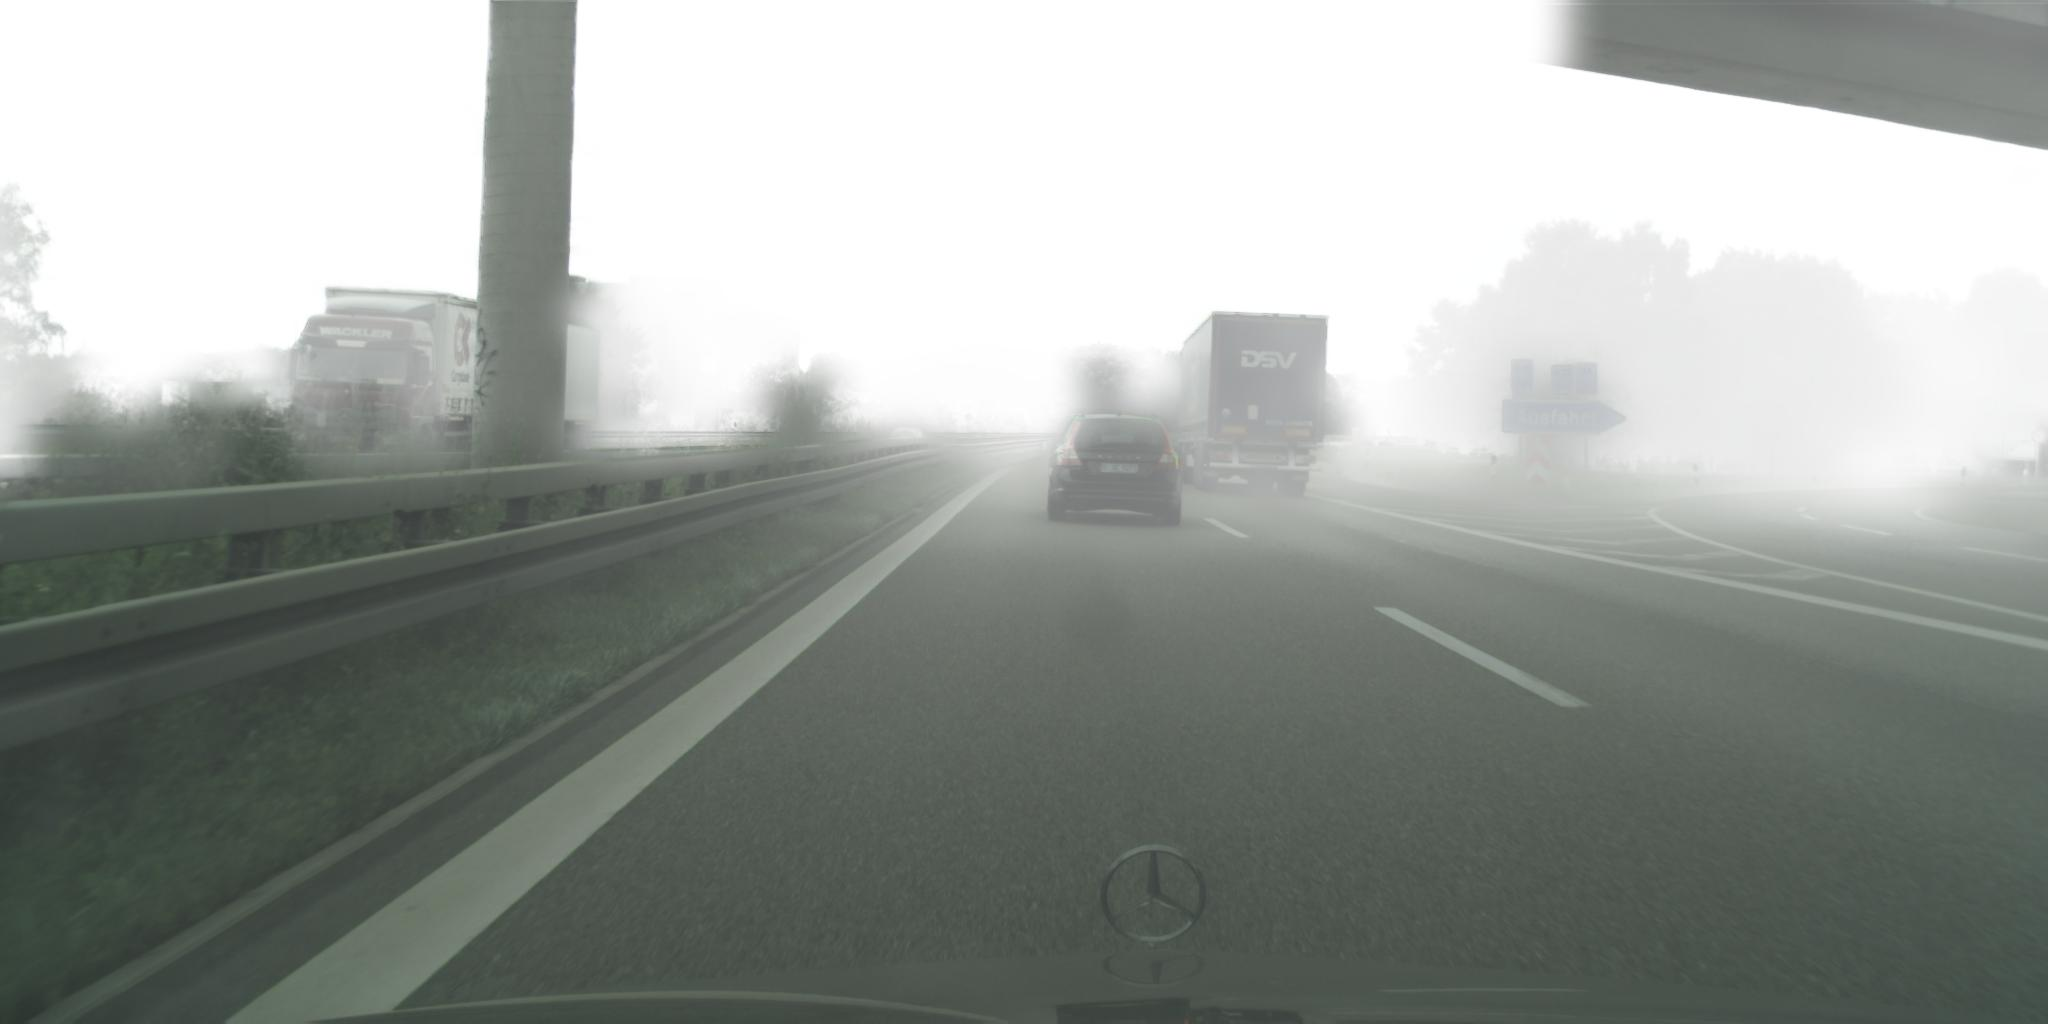car: (1044, 414, 1187, 528), (889, 428, 925, 444)
truck: (285, 289, 601, 468), (1178, 312, 1328, 500)
